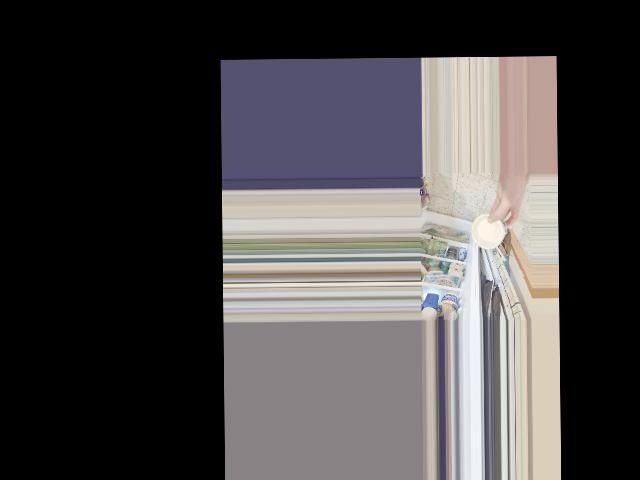cotage: (474, 210, 509, 248)
